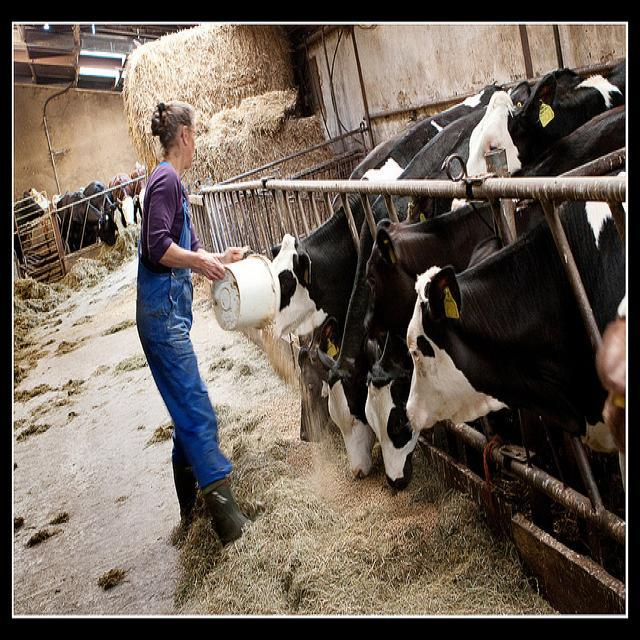cow: (405, 198, 625, 494), (317, 106, 486, 476), (267, 80, 497, 335), (364, 240, 499, 493), (359, 197, 585, 338), (449, 55, 624, 212), (83, 176, 124, 234)
